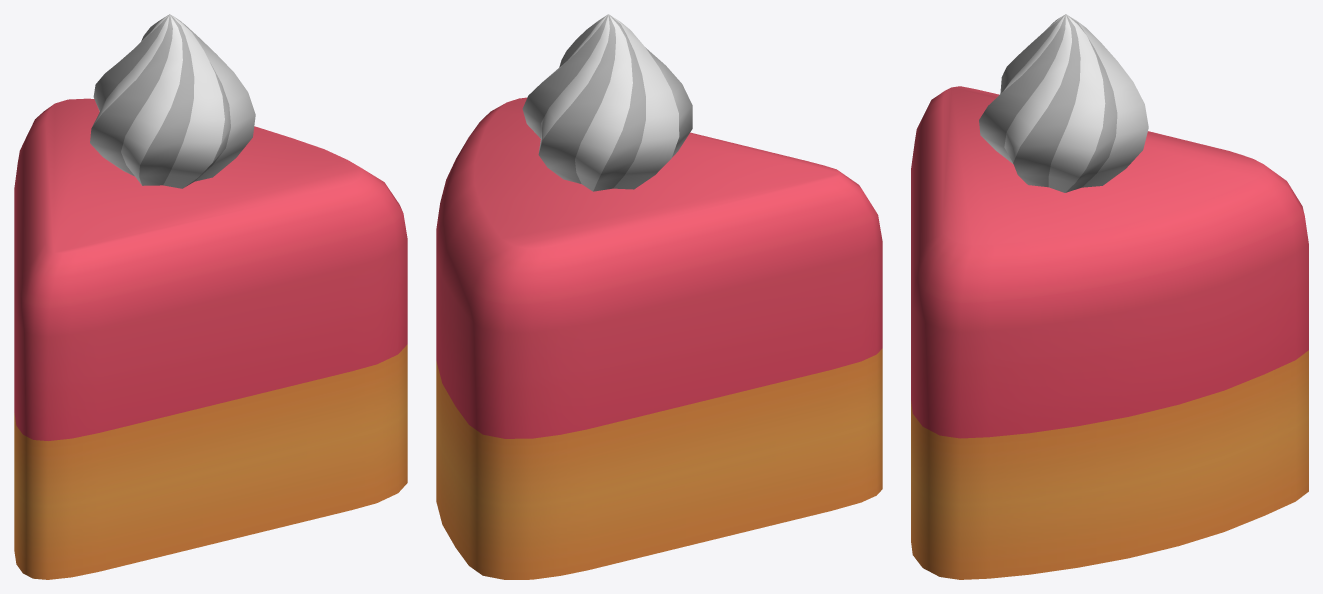
Rendered from cake06_slice.FBX.
The picture shows the model from 3 angles, left to right: view 1: azimuth 30°, elevation 25°; view 2: azimuth 150°, elevation 25°; view 3: azimuth 270°, elevation 25°; orthographic projection.
Visible parts, largest first — view 1: cake06_slice; view 2: cake06_slice; view 3: cake06_slice.
Part boxes in pixels (x1,y1,x2,y2): cake06_slice: (14,14,407,579); cake06_slice: (436,14,882,579); cake06_slice: (911,14,1308,579).
Size of the model in its own units: 0.00904 by 0.0104 by 0.00788.
